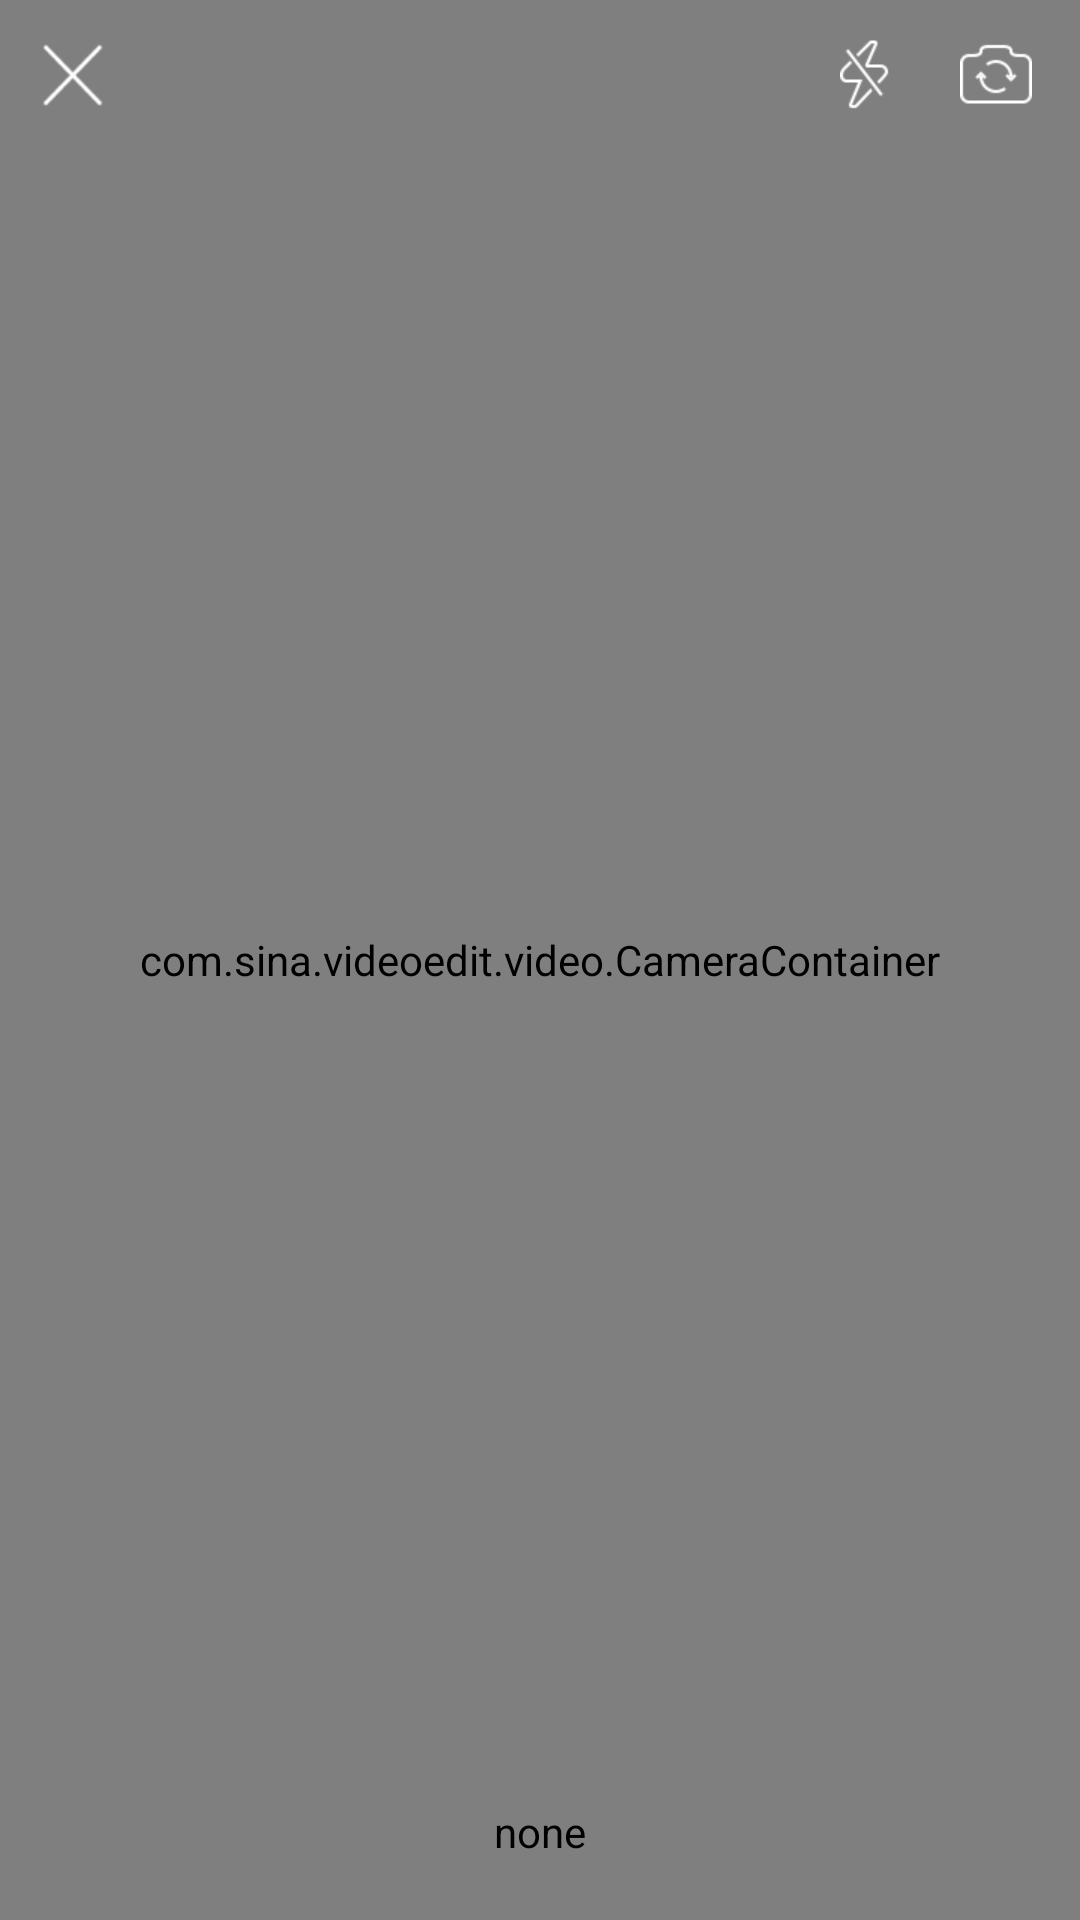

Screen size 1080w x 1920h. Icon name, then its center in pixels as (x=x, y=y):
close camera: (x=72, y=75)
flash off: (x=864, y=74)
switch camera: (x=996, y=74)
